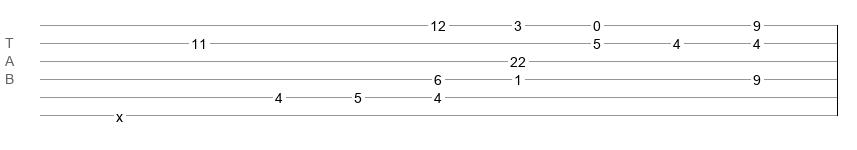0: (593, 18, 601, 28)
1: (514, 72, 522, 82)
11: (191, 36, 207, 46)
12: (430, 18, 446, 28)
22: (510, 54, 526, 64)
3: (514, 18, 522, 28)
4: (275, 90, 283, 100), (434, 90, 442, 100), (673, 36, 681, 46), (753, 36, 761, 46)
5: (354, 90, 362, 100), (593, 36, 601, 46)
6: (434, 72, 442, 82)
9: (753, 18, 761, 28), (753, 72, 761, 82)
x: (116, 109, 123, 117)
